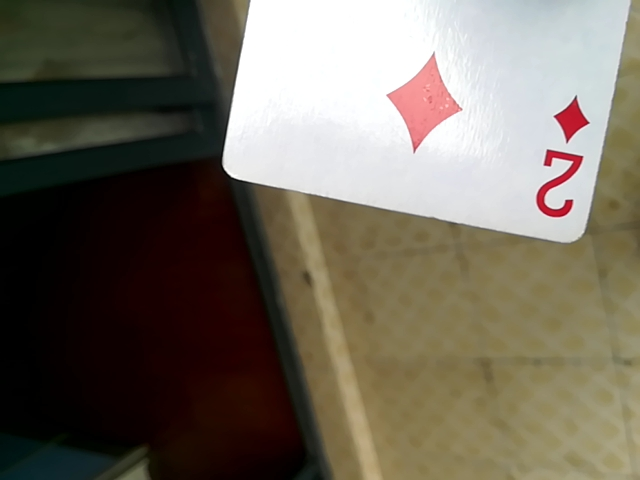fk 2: (212, 4, 640, 255)
